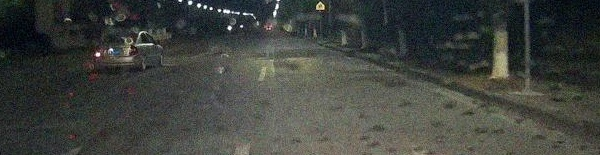L_light: (95, 47, 103, 57)
R_light: (129, 45, 138, 56)
T_light: (121, 33, 129, 35)
night-left: (94, 31, 139, 71)
